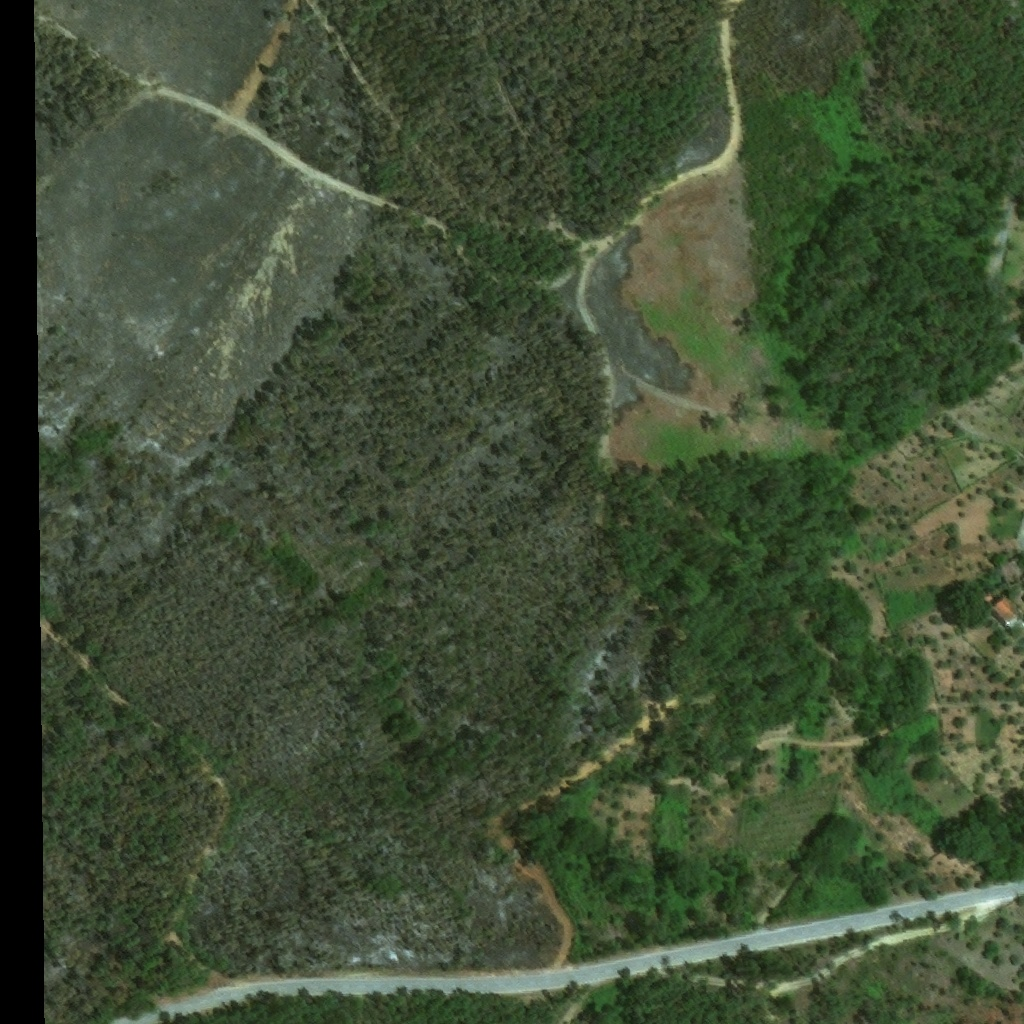0 no-damage: (991, 597, 1019, 625)
